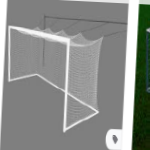goals: (7, 24, 103, 133)
